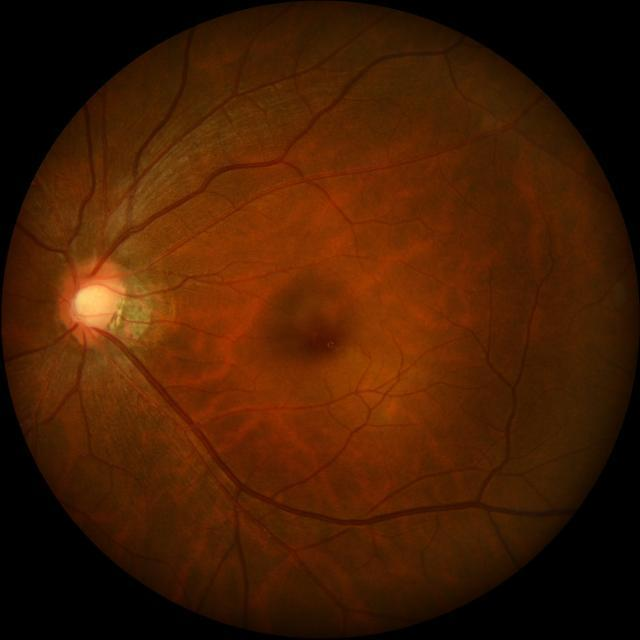OC: (74, 285, 114, 325)
OD: (58, 258, 122, 340)
